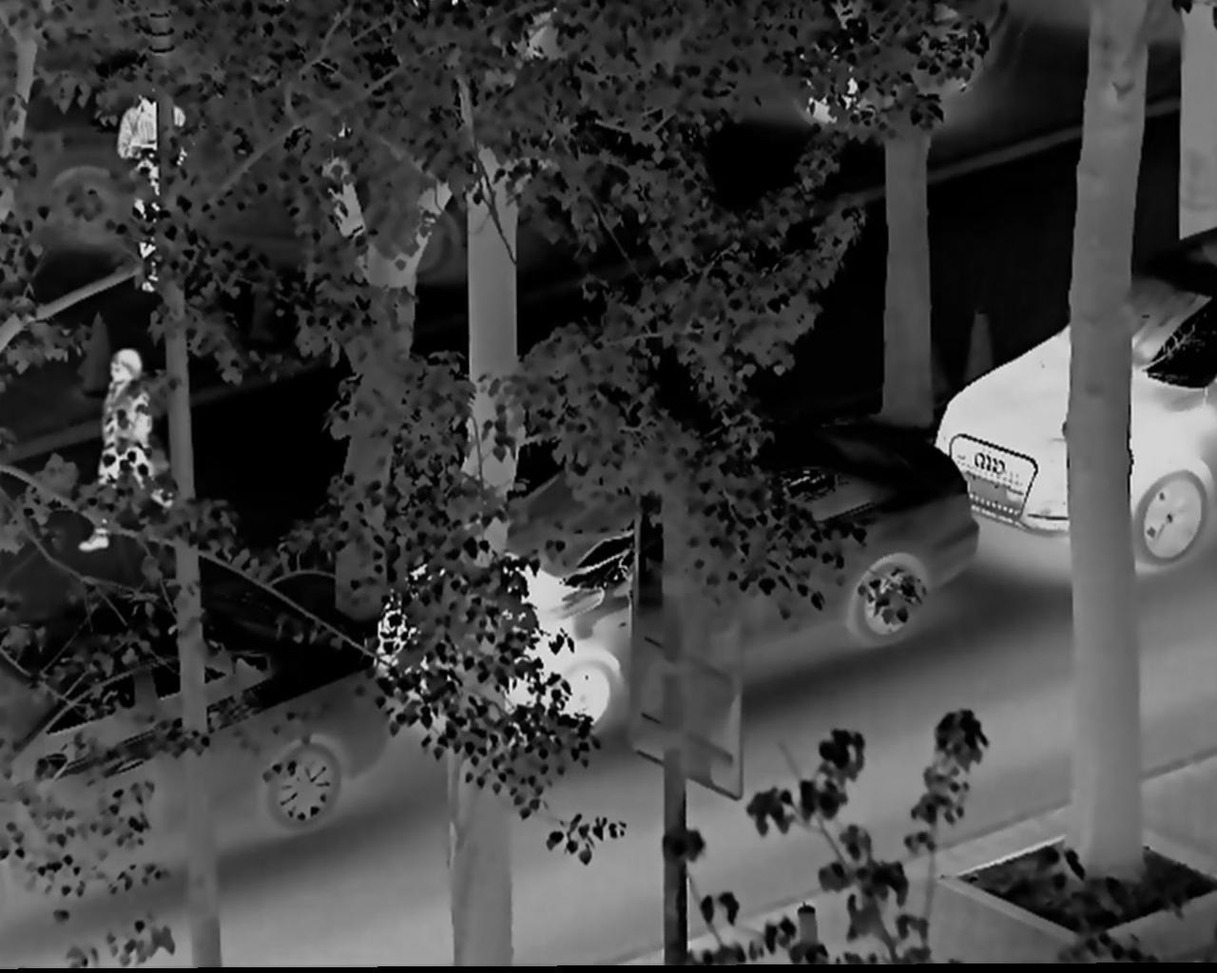person: (77, 349, 177, 561), (116, 76, 197, 293)
